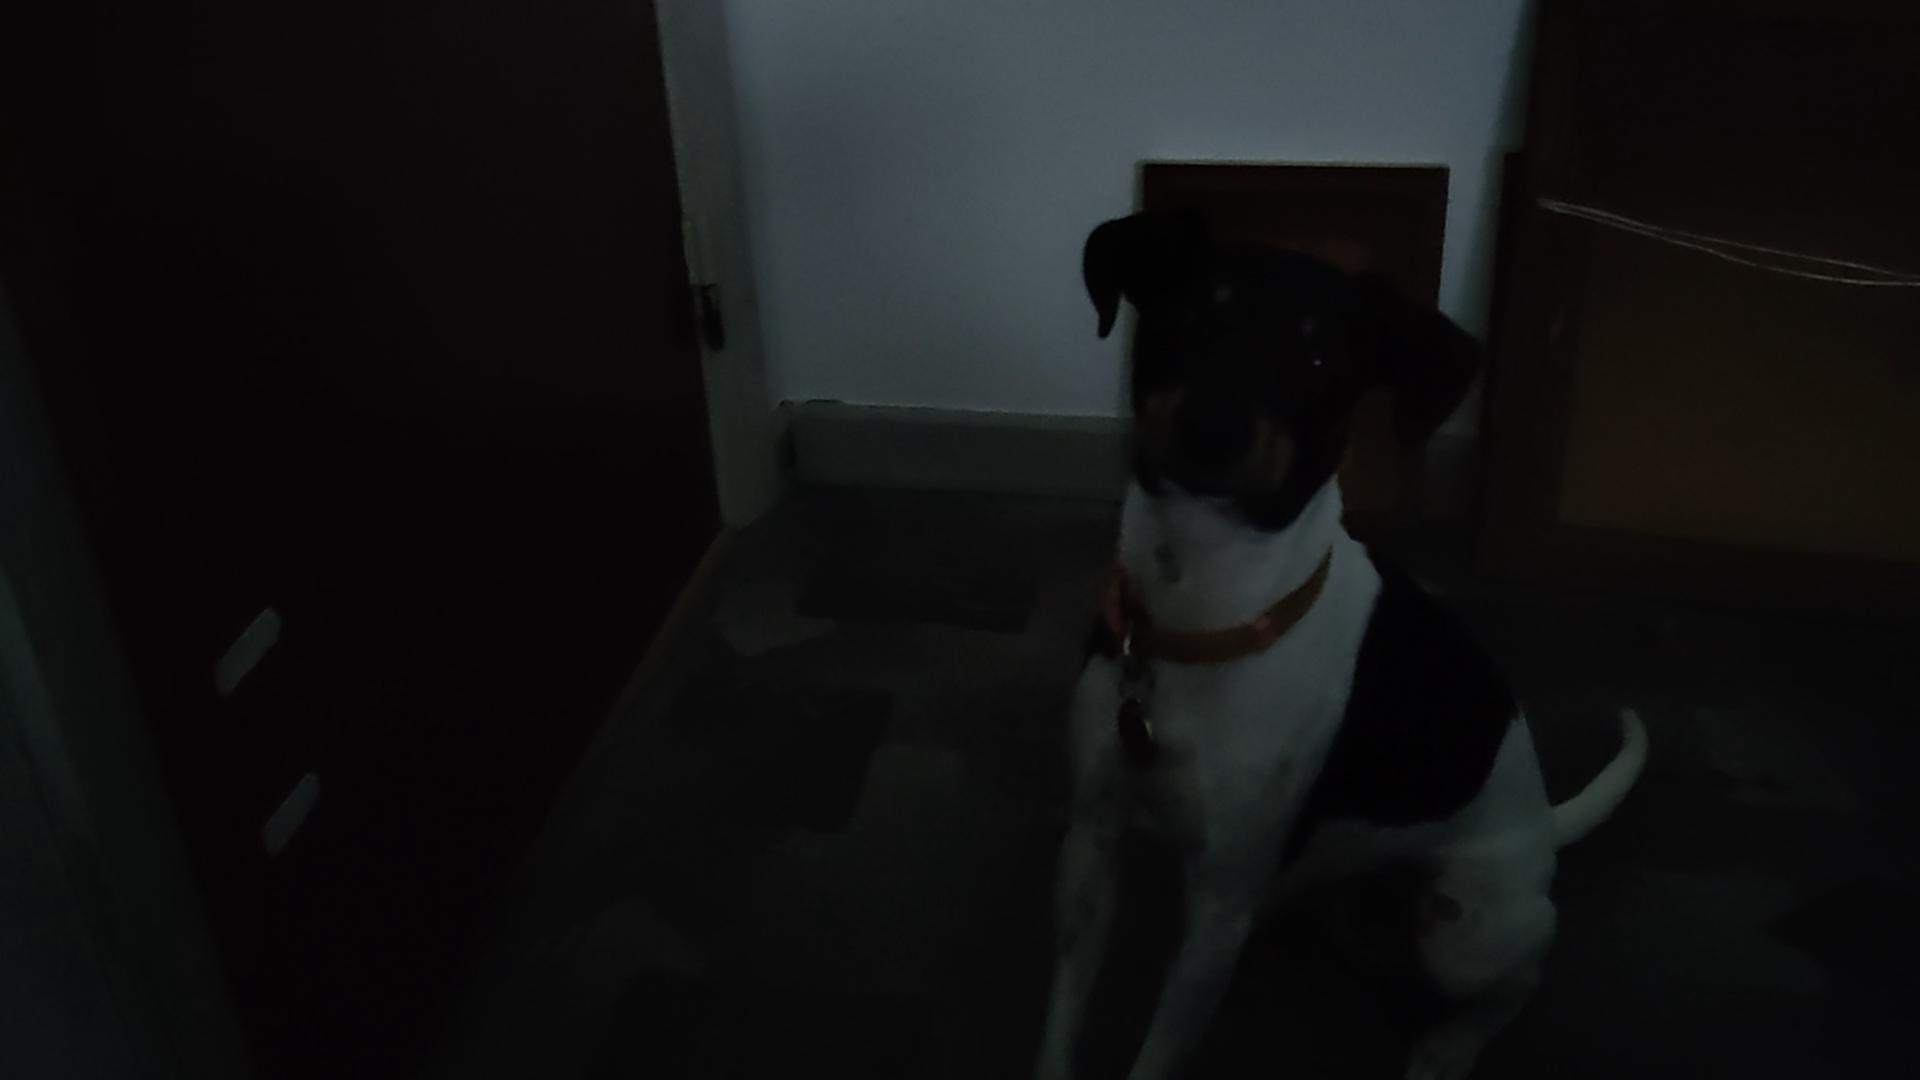Dog: (1025, 202, 1655, 1079)
